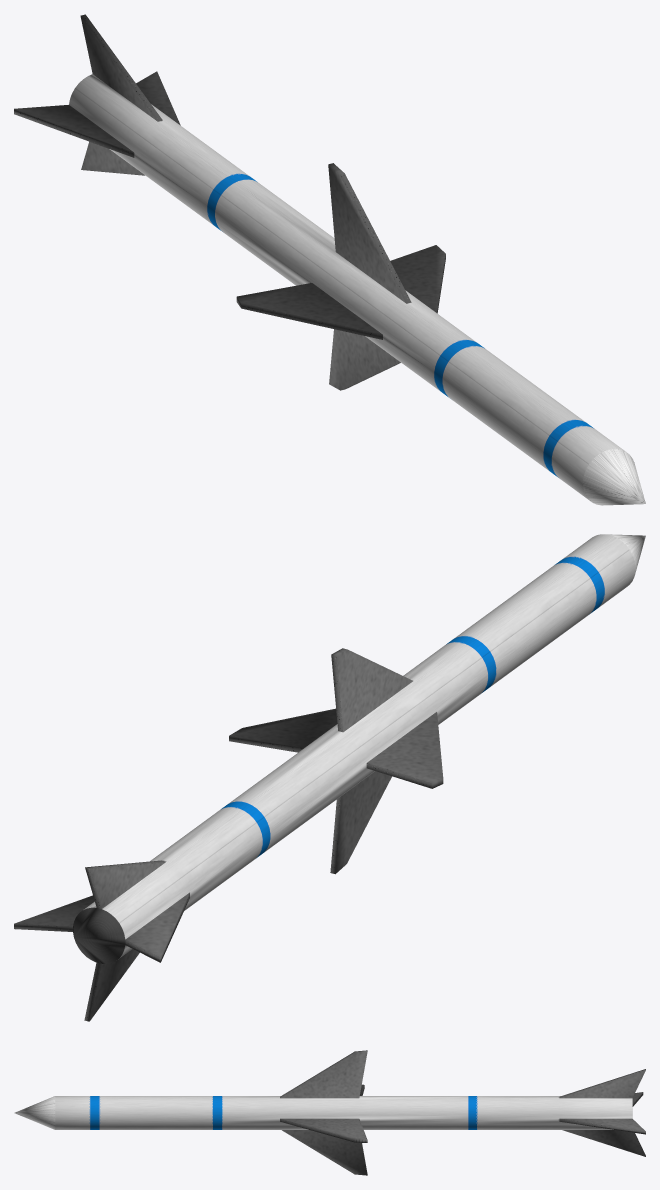
File: AIM-7F-Sparrow-Missile.obj
3 views of the same model, one above another, from view 1: azimuth 30°, elevation 25°; view 2: azimuth 150°, elevation 25°; view 3: azimuth 270°, elevation 25° (orthographic). The views are drawn at different scales.
Visible parts, largest first — view 1: sparrow-missile; view 2: sparrow-missile; view 3: sparrow-missile.
Part boxes in pixels (x1,y1,x2,y2): sparrow-missile: (14,14,645,505); sparrow-missile: (14,534,645,1021); sparrow-missile: (14,1050,645,1175).
Size of the model in its own units: 1.93 by 1.98 by 9.17.
1 material, 1 textured.
